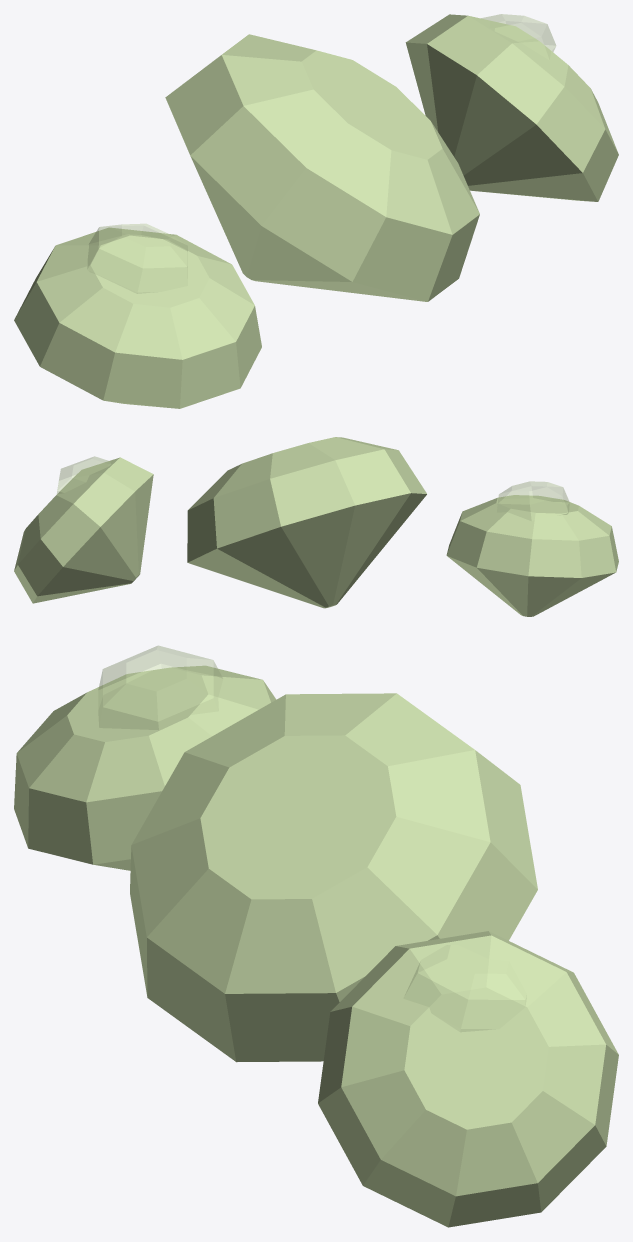
3 views of the same model, one above another, from view 1: azimuth 30°, elevation 25°; view 2: azimuth 150°, elevation 25°; view 3: azimuth 270°, elevation 25° (orthographic). The views are drawn at different scales.
Parts seen in each view (by area): view 1: TI036 / individually faceted stone 1, TI036 / individually faceted stone 0, TI036 / individually faceted stone 2, TI036 / inclusion colour facet, TI036 / inclusion colour facet.002; view 2: TI036 / individually faceted stone 1, TI036 / individually faceted stone 0, TI036 / individually faceted stone 2, TI036 / inclusion colour facet, TI036 / inclusion colour facet.002; view 3: TI036 / individually faceted stone 1, TI036 / individually faceted stone 2, TI036 / individually faceted stone 0, TI036 / inclusion colour facet, TI036 / inclusion colour facet.002.
Part boxes in pixels (x1=…): TI036 / individually faceted stone 1: x1=165, y1=34, x2=479, y2=301; TI036 / individually faceted stone 0: x1=14, y1=227, x2=261, y2=408; TI036 / individually faceted stone 2: x1=405, y1=14, x2=618, y2=201; TI036 / inclusion colour facet: x1=87, y1=223, x2=187, y2=293; TI036 / inclusion colour facet.002: x1=481, y1=14, x2=556, y2=59; TI036 / individually faceted stone 1: x1=187, y1=437, x2=426, y2=608; TI036 / individually faceted stone 0: x1=446, y1=495, x2=618, y2=616; TI036 / individually faceted stone 2: x1=14, y1=457, x2=153, y2=603; TI036 / inclusion colour facet: x1=497, y1=481, x2=569, y2=520; TI036 / inclusion colour facet.002: x1=57, y1=456, x2=110, y2=493; TI036 / individually faceted stone 1: x1=130, y1=693, x2=537, y2=1062; TI036 / individually faceted stone 2: x1=318, y1=931, x2=618, y2=1227; TI036 / individually faceted stone 0: x1=14, y1=665, x2=276, y2=870; TI036 / inclusion colour facet: x1=98, y1=645, x2=222, y2=729; TI036 / inclusion colour facet.002: x1=404, y1=945, x2=526, y2=1031.
Size of the model in its own units: 2.54 by 0.8889 by 1.57.
